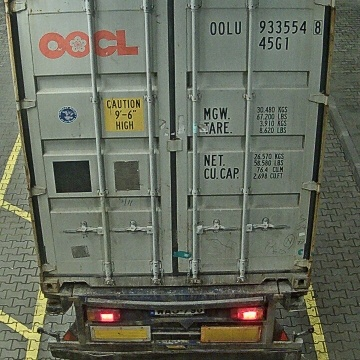serial_id: (207, 18, 323, 36)
